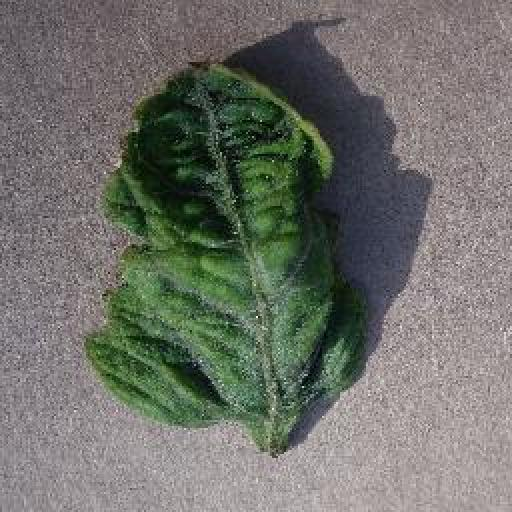disease_tomato: (87, 57, 372, 436)
